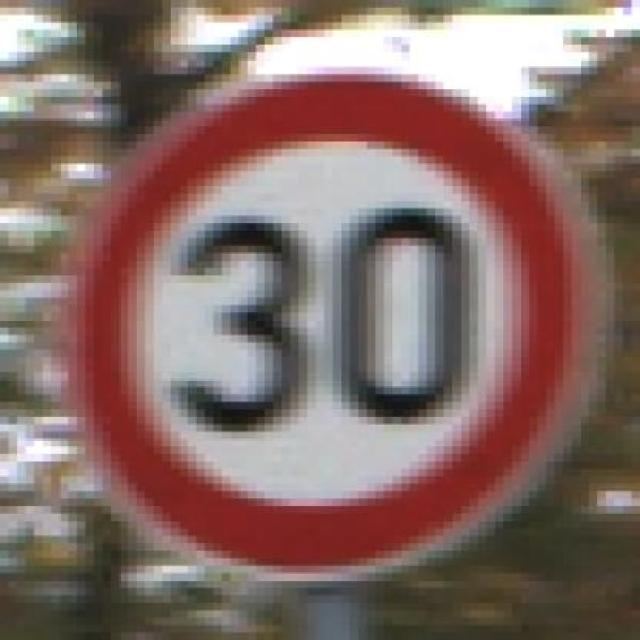Speed Limit 30 KMPh: (51, 45, 623, 580)
